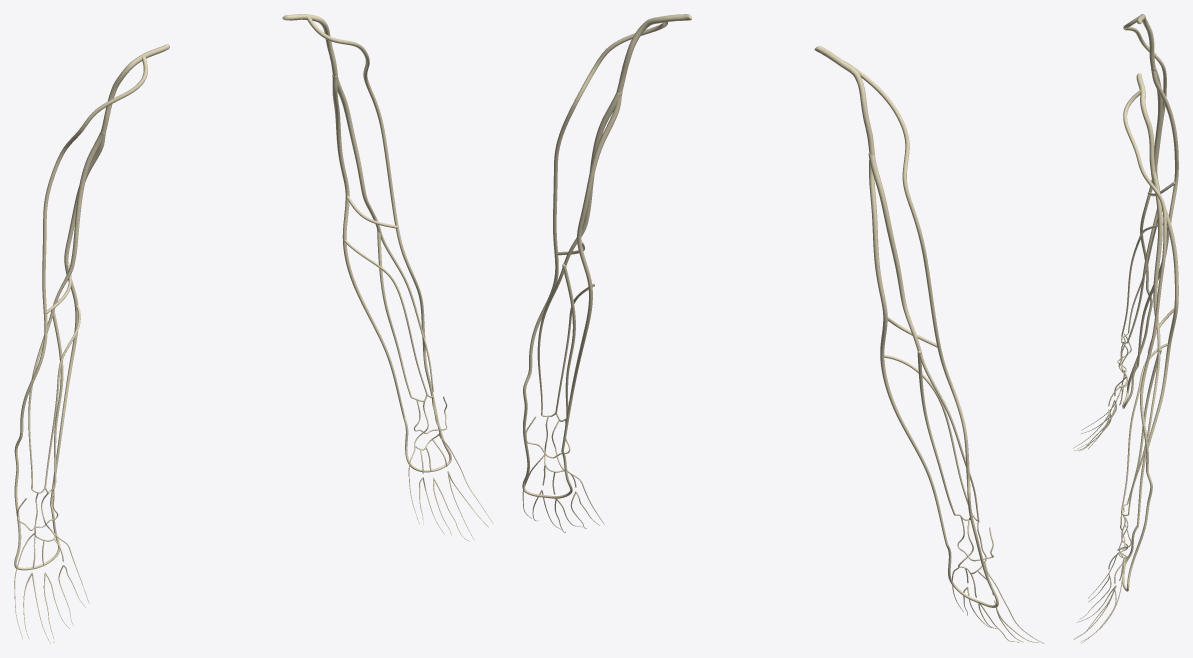
File: bodyparts3d-venous-upper-limb.glb
3 views of the same model, side by side, from view 1: azimuth 30°, elevation 25°; view 2: azimuth 150°, elevation 25°; view 3: azimuth 270°, elevation 25° (orthographic). The views are drawn at different scales.
Parts seen in each view (by area): view 1: venous-cephalic-vein-right, venous-cephalic-vein-left, venous-basilic-vein-left, venous-basilic-vein-right, venous-medial-brachial-vein-right, venous-medial-brachial-vein-left, venous-axillary-vein-right; view 2: venous-cephalic-vein-right, venous-cephalic-vein-left, venous-basilic-vein-right, venous-basilic-vein-left, venous-medial-brachial-vein-right, venous-axillary-vein-right, venous-axillary-vein-left, venous-medial-brachial-vein-left; view 3: venous-cephalic-vein-left, venous-basilic-vein-left, venous-basilic-vein-right, venous-cephalic-vein-right, venous-medial-brachial-vein-left, venous-axillary-vein-left, venous-radial-vein-left, venous-medial-brachial-vein-right, venous-median-antebrachial-vein-left, venous-ulnar-vein-left, venous-ulnar-vein-right, venous-axillary-vein-right (+6 smaller).
Part boxes in pixels (<box>): venous-cephalic-vein-right: <box>14,56,147,523</box>; venous-cephalic-vein-left: <box>307,15,438,421</box>; venous-basilic-vein-left: <box>332,75,405,417</box>; venous-basilic-vein-right: <box>50,132,105,503</box>; venous-medial-brachial-vein-right: <box>52,131,106,310</box>; venous-medial-brachial-vein-left: <box>332,74,380,231</box>; venous-axillary-vein-right: <box>100,44,169,133</box>; venous-cephalic-vein-right: <box>843,60,984,566</box>; venous-cephalic-vein-left: <box>523,22,667,455</box>; venous-basilic-vein-right: <box>869,160,948,545</box>; venous-basilic-vein-left: <box>561,95,621,451</box>; venous-medial-brachial-vein-right: <box>868,153,920,350</box>; venous-axillary-vein-right: <box>814,46,874,155</box>; venous-axillary-vein-left: <box>616,14,691,92</box>; venous-medial-brachial-vein-left: <box>564,92,622,266</box>; venous-cephalic-vein-left: <box>1123,89,1166,551</box>; venous-basilic-vein-left: <box>1137,173,1178,525</box>; venous-basilic-vein-right: <box>1137,68,1178,365</box>; venous-cephalic-vein-right: <box>1123,15,1166,362</box>; venous-medial-brachial-vein-left: <box>1152,172,1162,350</box>; venous-axillary-vein-left: <box>1136,73,1155,174</box>; venous-radial-vein-left: <box>1128,347,1160,514</box>; venous-medial-brachial-vein-right: <box>1151,67,1162,189</box>; venous-median-antebrachial-vein-left: <box>1121,343,1168,514</box>; venous-ulnar-vein-left: <box>1122,348,1161,512</box>; venous-ulnar-vein-right: <box>1121,209,1157,343</box>; venous-axillary-vein-right: <box>1136,14,1155,68</box>.
Bounding box in the file's own units: 0.6244 × 0.6802 × 0.1308.
